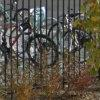Bicycle: (2, 4, 90, 70)
